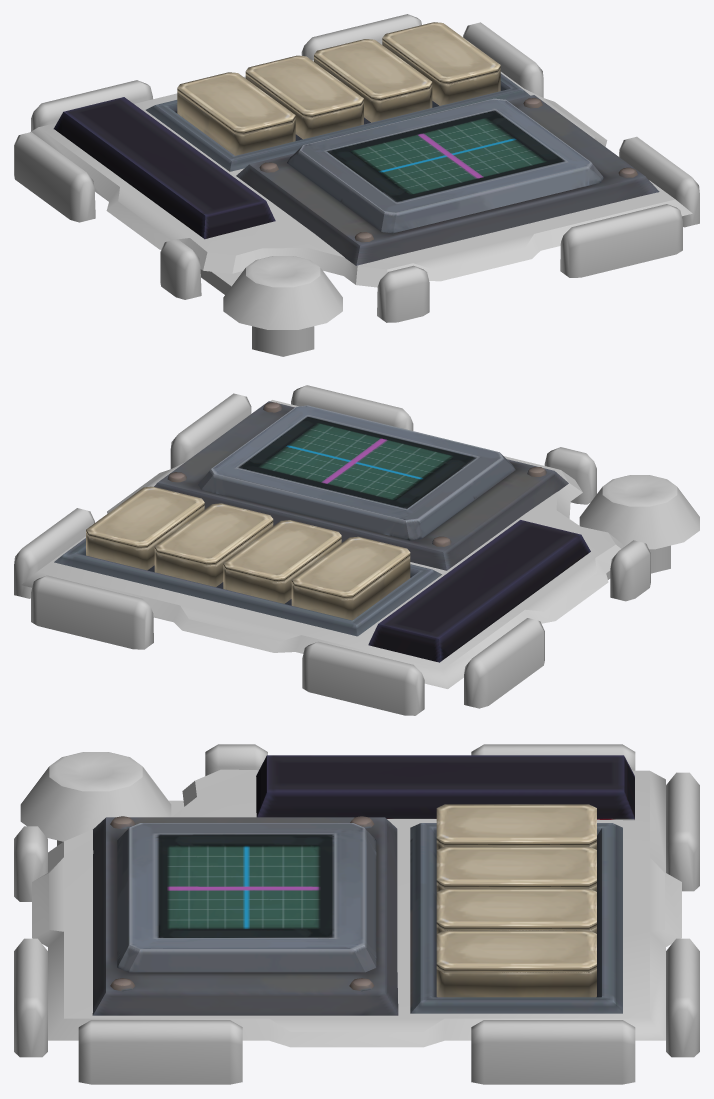
The model's file is MemoryComponent.fbx.
The picture shows the model from 3 angles, top to bottom: view 1: azimuth 30°, elevation 25°; view 2: azimuth 150°, elevation 25°; view 3: azimuth 270°, elevation 25°; orthographic projection. The views are drawn at different scales.
Visible parts, largest first — view 1: Component_PuzzleBackground, parts, StatusIndicatorBase, highlight_button3, highlight_button2, highlight_button0, highlight_button1, KEY_D, KEY_B, KEY_A, KEY_C; view 2: Component_PuzzleBackground, parts, StatusIndicatorBase, highlight_button3, highlight_button1, highlight_button0, highlight_button2, KEY_D, KEY_B, KEY_C, KEY_A; view 3: Component_PuzzleBackground, parts, StatusIndicatorBase, highlight_button0, highlight_button2, highlight_button3, highlight_button1, KEY_A.
Boxes of the visible parts, bbox=[...] form: Component_PuzzleBackground: bbox=[14, 14, 699, 356]; parts: bbox=[146, 73, 659, 265]; StatusIndicatorBase: bbox=[53, 97, 275, 239]; highlight_button3: bbox=[177, 72, 295, 134]; highlight_button2: bbox=[245, 55, 363, 118]; highlight_button0: bbox=[382, 22, 500, 84]; highlight_button1: bbox=[314, 39, 432, 100]; KEY_D: bbox=[177, 92, 295, 155]; KEY_B: bbox=[314, 58, 432, 122]; KEY_A: bbox=[382, 41, 500, 105]; KEY_C: bbox=[245, 75, 363, 139]; Component_PuzzleBackground: bbox=[14, 385, 699, 715]; parts: bbox=[54, 401, 568, 636]; StatusIndicatorBase: bbox=[368, 520, 590, 662]; highlight_button3: bbox=[291, 536, 410, 599]; highlight_button1: bbox=[154, 503, 273, 565]; highlight_button0: bbox=[86, 486, 204, 548]; highlight_button2: bbox=[223, 520, 341, 582]; KEY_D: bbox=[291, 557, 410, 620]; KEY_B: bbox=[154, 523, 273, 586]; KEY_C: bbox=[223, 539, 341, 603]; KEY_A: bbox=[86, 506, 204, 570]; Component_PuzzleBackground: bbox=[14, 744, 699, 1084]; parts: bbox=[92, 816, 622, 1015]; StatusIndicatorBase: bbox=[256, 755, 634, 820]; highlight_button0: bbox=[436, 930, 596, 972]; highlight_button2: bbox=[436, 846, 596, 888]; highlight_button3: bbox=[436, 804, 596, 846]; highlight_button1: bbox=[436, 888, 596, 930]; KEY_A: bbox=[436, 969, 596, 997].
Bounding box in the file's own units: 0.2 × 0.0358 × 0.2.
